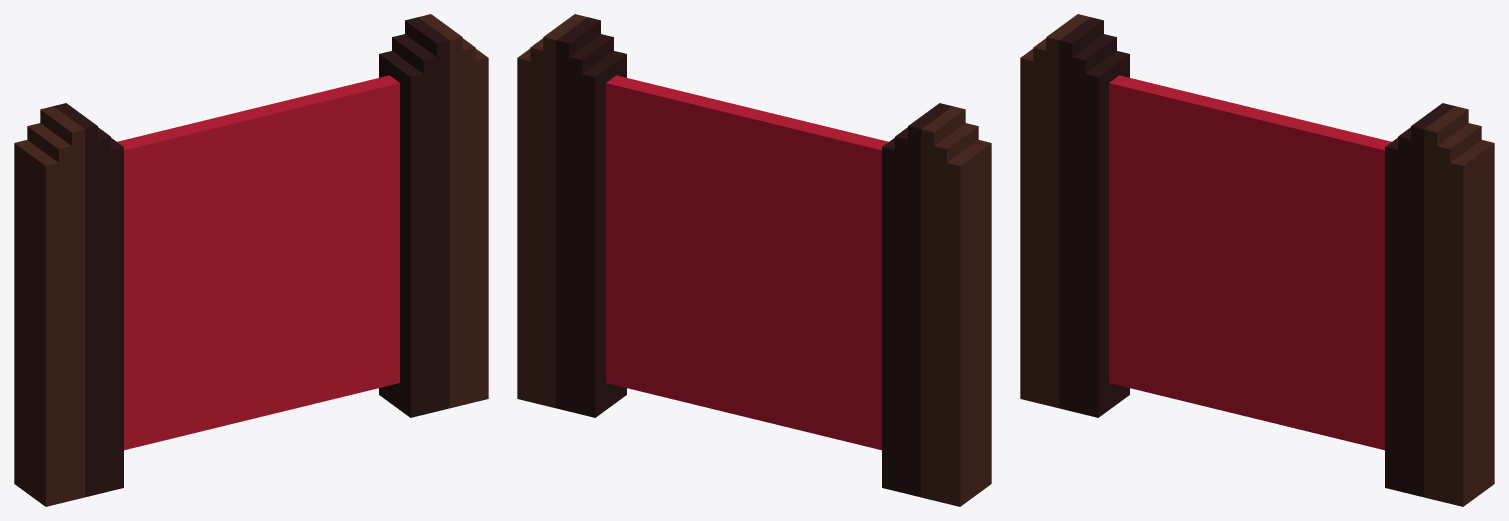
The model's file is chair.fbx.
3 views of the same model, side by side, from view 1: azimuth 30°, elevation 25°; view 2: azimuth 150°, elevation 25°; view 3: azimuth 330°, elevation 25° (orthographic).
Parts seen in each view (by area): view 1: generated; view 2: generated; view 3: generated.
Boxes of the visible parts, x1=… form: generated: x1=14, y1=14, x2=488, y2=506; generated: x1=517, y1=14, x2=991, y2=506; generated: x1=1020, y1=14, x2=1494, y2=506.
Bounding box in the file's own units: 340 × 270 × 42.
